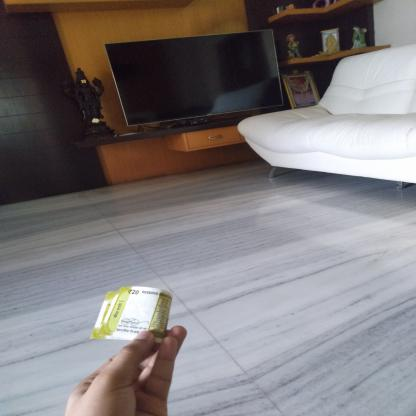New20Back: (97, 288, 173, 336)
